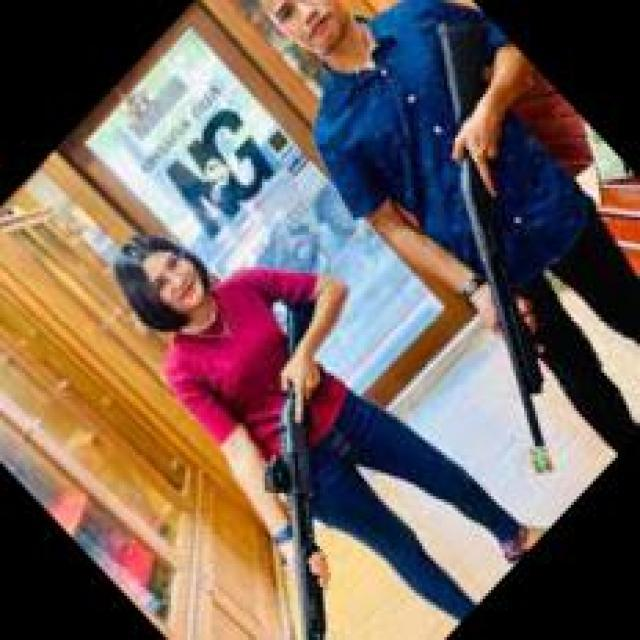weapon: (434, 20, 552, 448), (262, 302, 328, 640)
